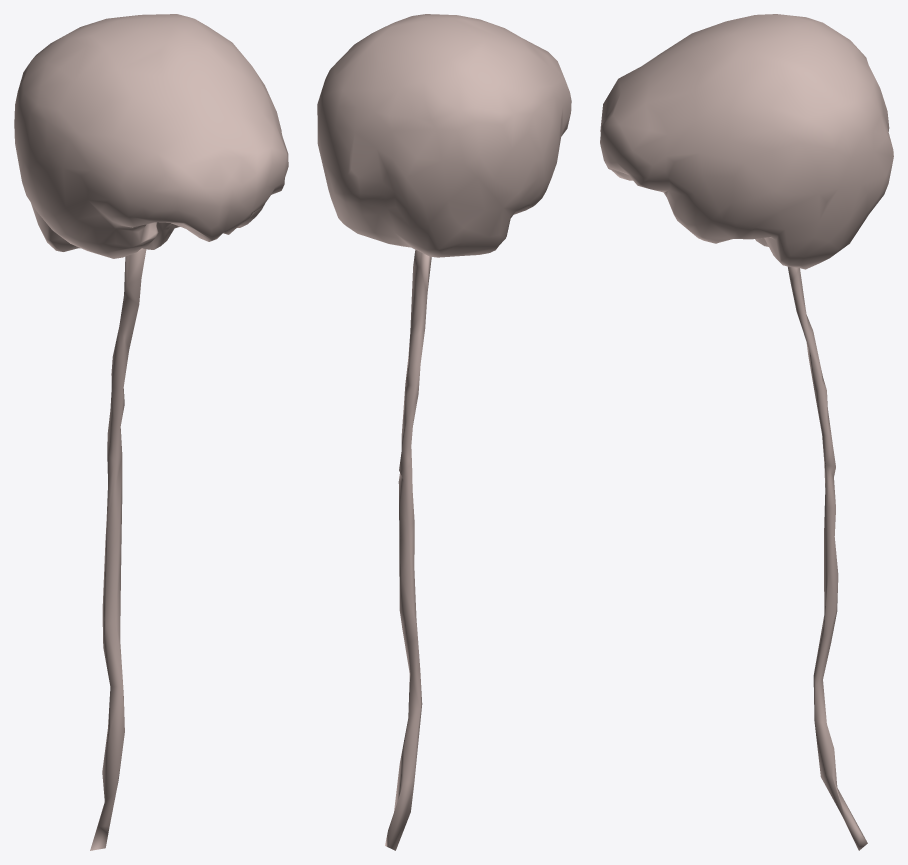
Rendered from pediatric_infant_male.nervous.LOD2.glb.
The picture shows the model from 3 angles, left to right: view 1: azimuth 30°, elevation 25°; view 2: azimuth 150°, elevation 25°; view 3: azimuth 270°, elevation 25°; orthographic projection. The views are drawn at different scales.
Parts seen in each view (by area): view 1: PEDIATRIC.INFANT.MALE.NERVOUS.BRAIN, PEDIATRIC.INFANT.MALE.NERVOUS.SPINAL_CORD; view 2: PEDIATRIC.INFANT.MALE.NERVOUS.BRAIN, PEDIATRIC.INFANT.MALE.NERVOUS.SPINAL_CORD; view 3: PEDIATRIC.INFANT.MALE.NERVOUS.BRAIN, PEDIATRIC.INFANT.MALE.NERVOUS.SPINAL_CORD.
Boxes of the visible parts, <box> form: PEDIATRIC.INFANT.MALE.NERVOUS.BRAIN: <box>14,14,288,258</box>; PEDIATRIC.INFANT.MALE.NERVOUS.SPINAL_CORD: <box>90,248,146,850</box>; PEDIATRIC.INFANT.MALE.NERVOUS.BRAIN: <box>317,14,571,257</box>; PEDIATRIC.INFANT.MALE.NERVOUS.SPINAL_CORD: <box>385,250,431,850</box>; PEDIATRIC.INFANT.MALE.NERVOUS.BRAIN: <box>600,14,893,269</box>; PEDIATRIC.INFANT.MALE.NERVOUS.SPINAL_CORD: <box>787,266,867,850</box>.
Size of the model in its own units: 0.1225 by 0.4373 by 0.1426.
